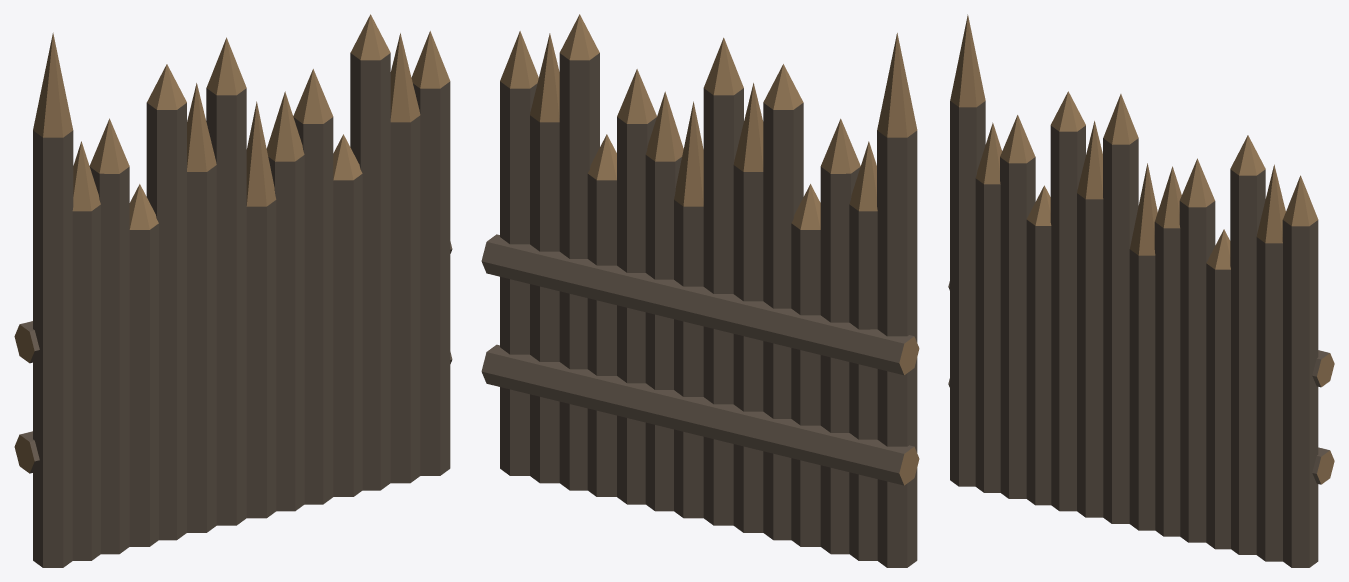
Rendered from Wood_Wall_03.fbx.
3 views of the same model, side by side, from view 1: azimuth 30°, elevation 25°; view 2: azimuth 150°, elevation 25°; view 3: azimuth 330°, elevation 25° (orthographic). The views are drawn at different scales.
Parts seen in each view (by area): view 1: Wood_Wall_03; view 2: Wood_Wall_03; view 3: Wood_Wall_03.
Boxes of the visible parts, x1,y1,x2,y2 form: Wood_Wall_03: (14,14,452,567); Wood_Wall_03: (481,14,919,567); Wood_Wall_03: (948,14,1334,567).
Bounding box in the file's own units: 88.47 × 107 × 10.41.
